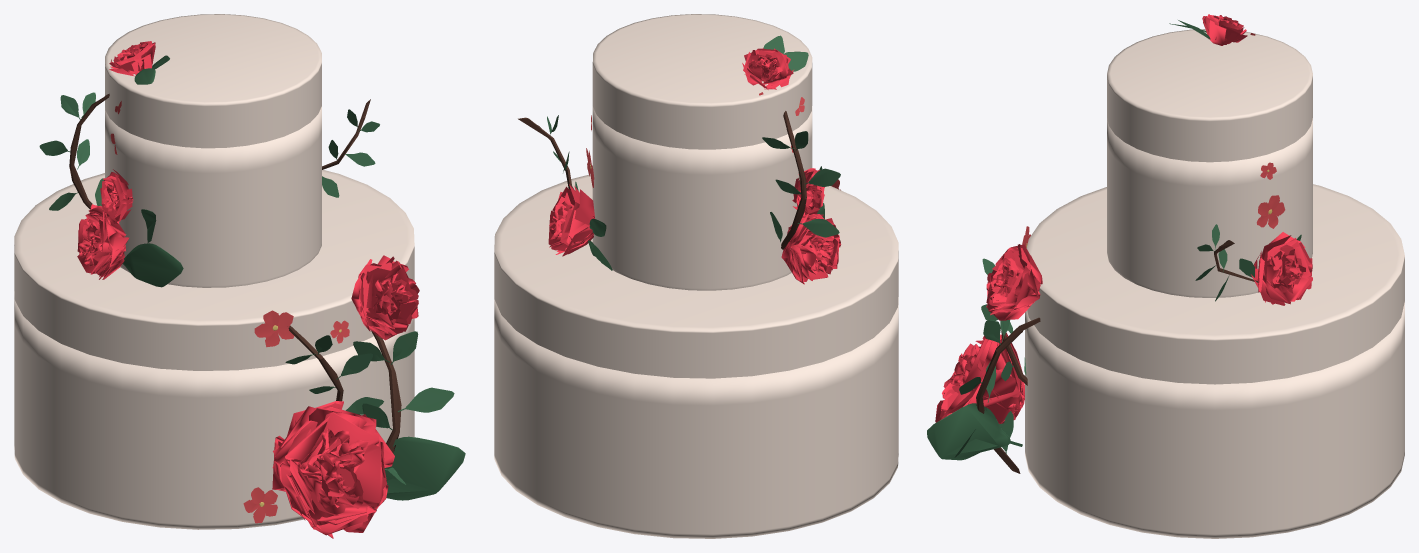
File: 2-tier-white-roses-none.glb
The picture shows the model from 3 angles, left to right: view 1: azimuth 30°, elevation 25°; view 2: azimuth 150°, elevation 25°; view 3: azimuth 270°, elevation 25°; orthographic projection. The views are drawn at different scales.
Parts seen in each view (by area): view 1: Cylinder.023, Cylinder.013, grid.025, grid.024, Plane.049, Plane.059, grid.026, Plane.056, Plane.058, Plane.052, Plane.045, grid.027 (+3 smaller); view 2: Cylinder.023, Cylinder.013, grid.026, Plane.056, grid.028, grid.014, grid.027, Plane.045; view 3: Cylinder.023, Cylinder.013, grid.025, grid.028, Plane.049, grid.024, Plane.059, Plane.045, grid.014, Plane.058, Sphere.032.
Part boxes in pixels (x1=…): Cylinder.023: x1=14, y1=170, x2=414, y2=529; Cylinder.013: x1=105, y1=14, x2=321, y2=287; grid.025: x1=272, y1=401, x2=394, y2=538; grid.024: x1=351, y1=255, x2=419, y2=340; Plane.049: x1=384, y1=436, x2=465, y2=500; Plane.059: x1=353, y1=331, x2=454, y2=484; grid.026: x1=77, y1=204, x2=129, y2=279; Plane.056: x1=39, y1=92, x2=109, y2=210; Plane.058: x1=285, y1=325, x2=383, y2=414; Plane.052: x1=122, y1=243, x2=183, y2=287; Plane.045: x1=322, y1=99, x2=379, y2=197; grid.027: x1=100, y1=169, x2=133, y2=223; Cylinder.023: x1=494, y1=174, x2=898, y2=538; Cylinder.013: x1=592, y1=14, x2=812, y2=290; grid.026: x1=781, y1=213, x2=841, y2=284; Plane.056: x1=762, y1=111, x2=840, y2=249; grid.028: x1=548, y1=184, x2=595, y2=256; grid.014: x1=742, y1=48, x2=793, y2=89; grid.027: x1=792, y1=168, x2=824, y2=219; Plane.045: x1=518, y1=115, x2=578, y2=190; Cylinder.023: x1=1025, y1=184, x2=1404, y2=538; Cylinder.013: x1=1107, y1=29, x2=1312, y2=297; grid.025: x1=935, y1=328, x2=1024, y2=423; grid.028: x1=1251, y1=232, x2=1312, y2=305; Plane.049: x1=927, y1=403, x2=1022, y2=460; grid.024: x1=986, y1=244, x2=1042, y2=320; Plane.059: x1=954, y1=317, x2=1040, y2=473; Plane.045: x1=1195, y1=224, x2=1259, y2=301; grid.014: x1=1202, y1=14, x2=1247, y2=45; Plane.058: x1=981, y1=258, x2=1027, y2=385; Sphere.032: x1=1256, y1=195, x2=1285, y2=228.
Size of the model in its own units: 3.4 by 3.99 by 4.11.
